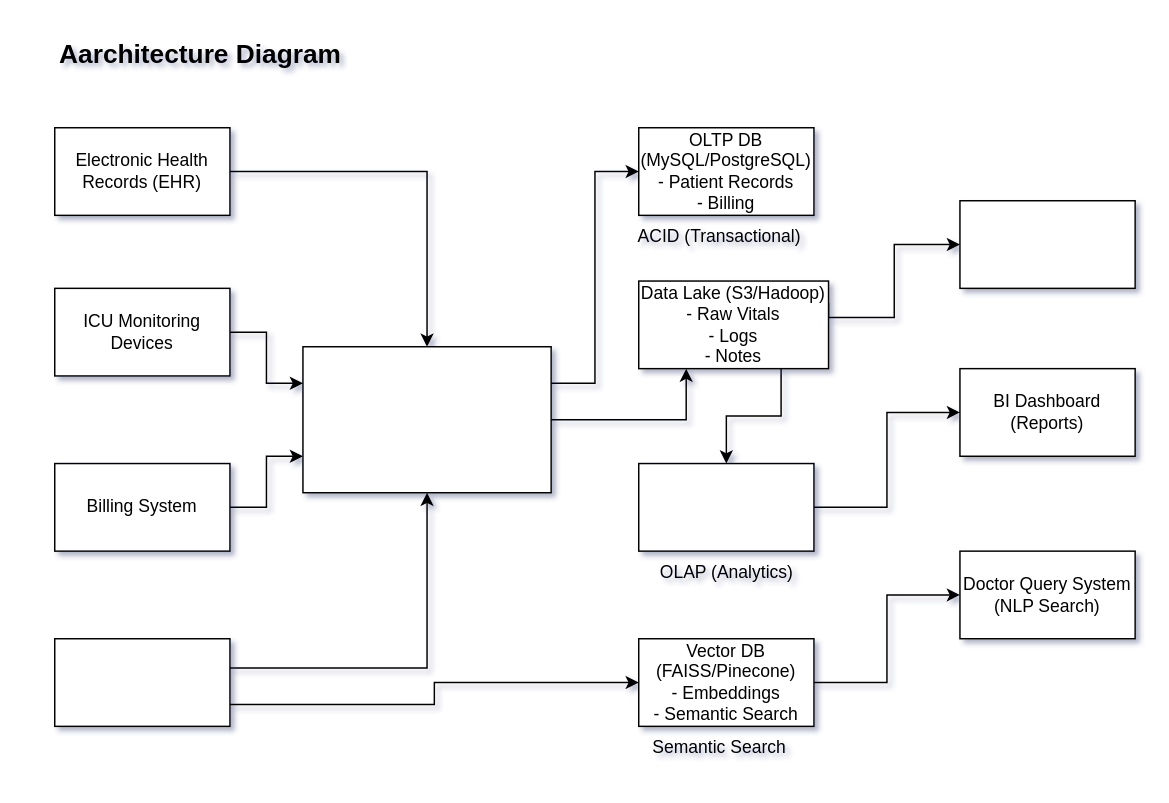
The diagram is 1169 pixels wide and 803 high, and some of its shapes have lost their labels. The shapes that lost their labels are listed below. From the top down, each one's centre as x and y in pixels, then its label:
the point at 1046,243: ML Model (Readmission Prediction)
the point at 426,419: Data Ingestion Layer (Batch ETL + Streaming - Kafka)
the point at 725,506: Data Warehouse (Snowflake/BigQuery) - Cleaned Data - Reporting
the point at 141,681: Doctor Notes
